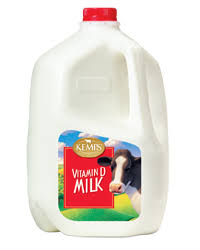milk: (27, 8, 169, 236)
